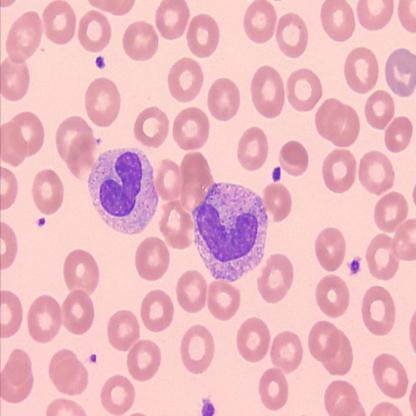Band Neutrophil: (188, 180, 270, 283), (86, 145, 160, 237)
